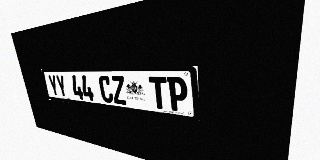4: (80, 75, 94, 101), (70, 75, 84, 100)
C: (98, 76, 114, 103)
P: (167, 77, 188, 112)
T: (149, 76, 169, 110)
Y: (55, 75, 68, 98), (47, 75, 60, 97)
Z: (110, 76, 127, 105)
